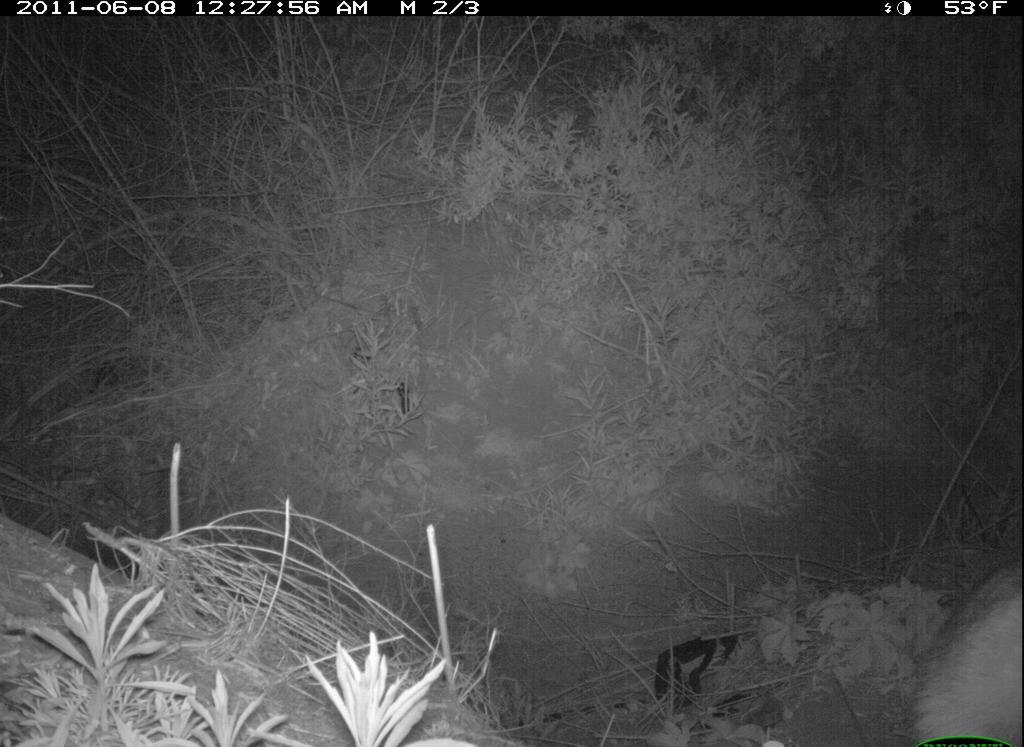raccoon: (904, 548, 1024, 747)
